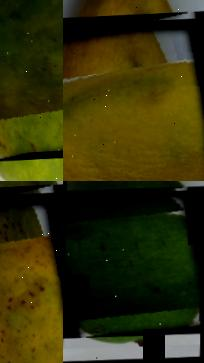PartiallyRipe: (0, 188, 63, 363), (0, 0, 63, 158)
Ripe: (63, 14, 204, 181)
Unripe: (63, 188, 204, 337)
